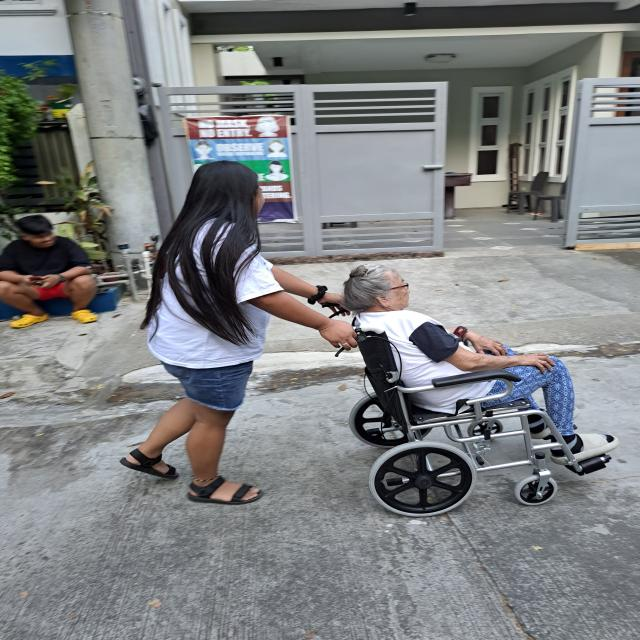wheelchairs: (319, 304, 626, 520)
